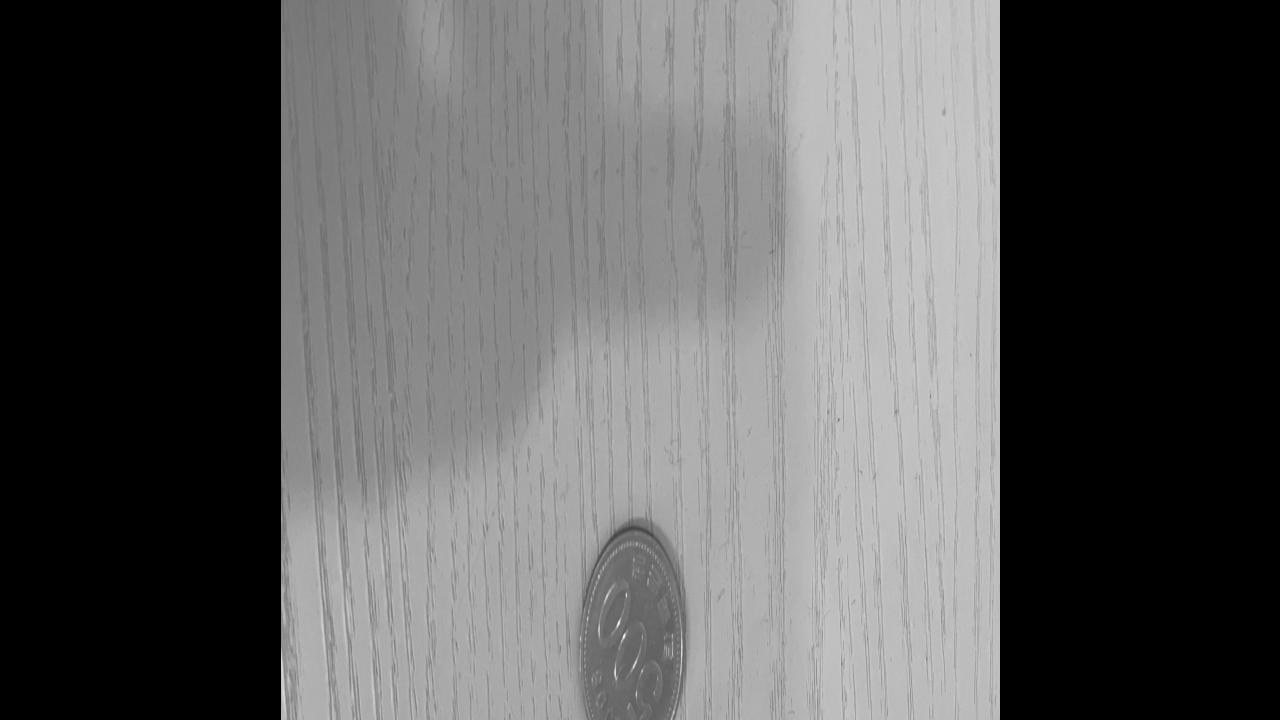coin: (578, 521, 684, 720)
